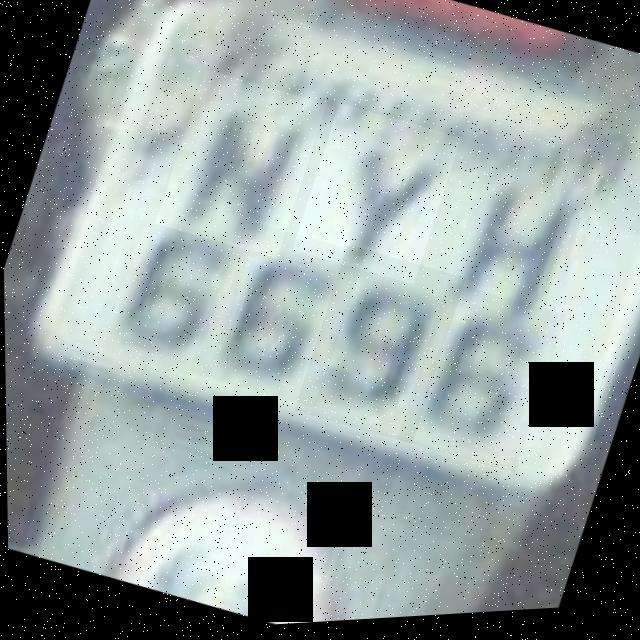6: (186, 215, 366, 418), (393, 281, 566, 485), (87, 189, 258, 389)
9: (291, 243, 466, 454)
N: (152, 66, 328, 267), (425, 145, 602, 341)
Y: (289, 102, 462, 295)
